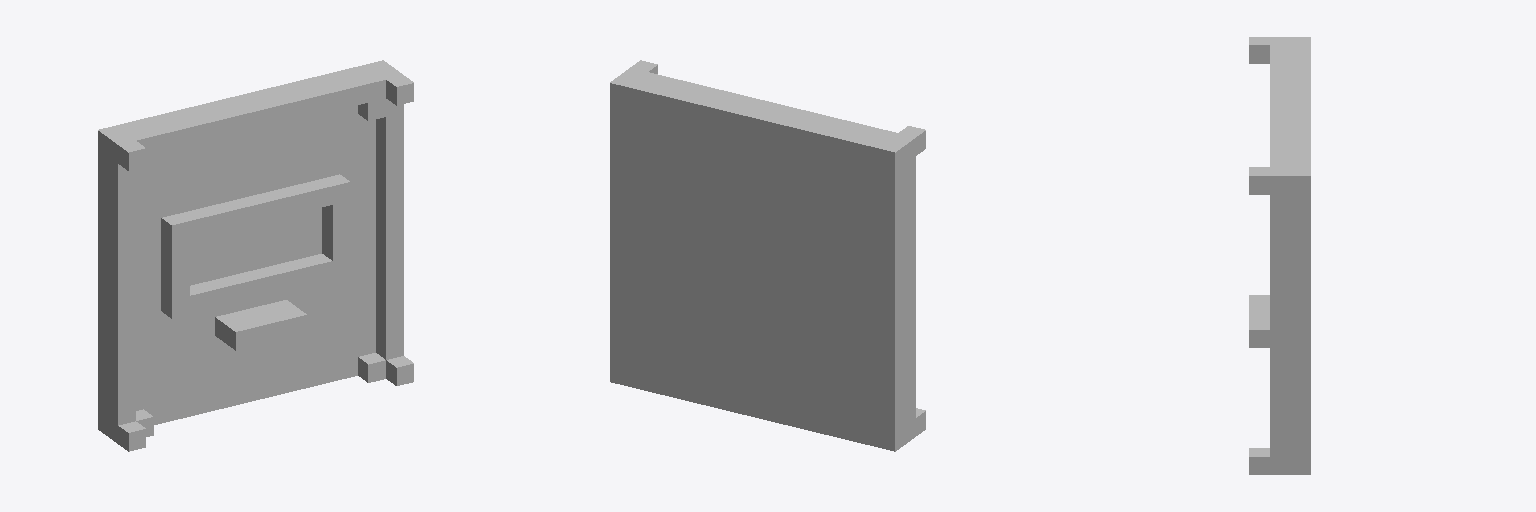
File: wallTerminal.obj
3 renders of one model, left to right at view 1: azimuth 30°, elevation 25°; view 2: azimuth 150°, elevation 25°; view 3: azimuth 270°, elevation 25°, orthographic.
Visible parts, largest first — view 1: object 1; view 2: object 1; view 3: object 1.
Part boxes in pixels (left/top/right/bottom): object 1: left=98, top=60, right=413, bottom=451; object 1: left=610, top=60, right=925, bottom=451; object 1: left=1249, top=37, right=1310, bottom=474.
Size of the model in its own units: 1.6 by 1.6 by 0.3.